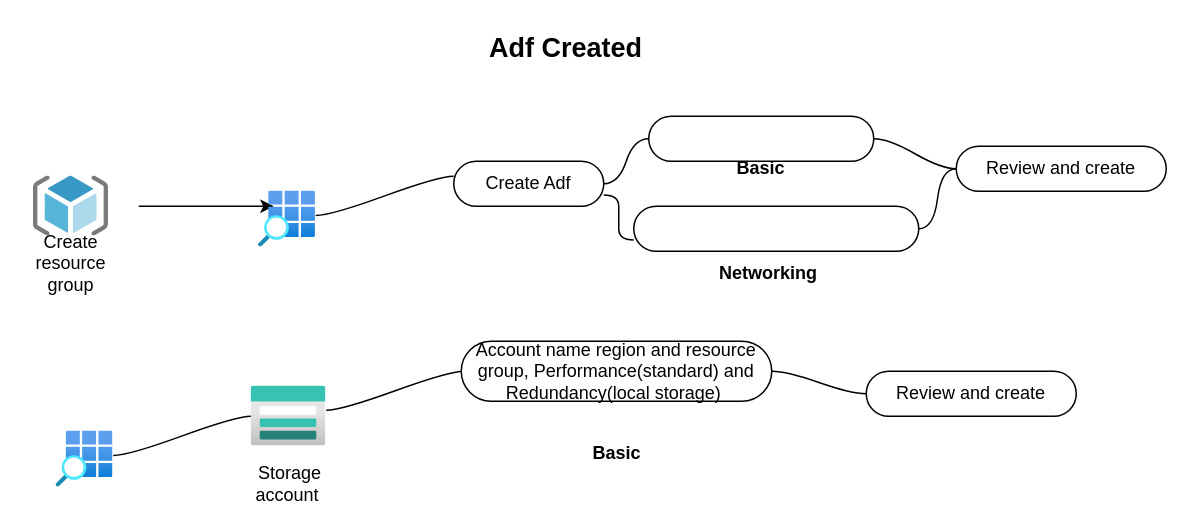
Image size: 1193x531. Some labels were removed from this diagram. The shapes that lost their labels are listed below. From the top down, each one's box as (x1, y1, x2, y2) in pixels, then its label:
(647, 115, 874, 161): Give Name region(Central India) version(V2)
(632, 205, 919, 251): Connect via public endpoint
